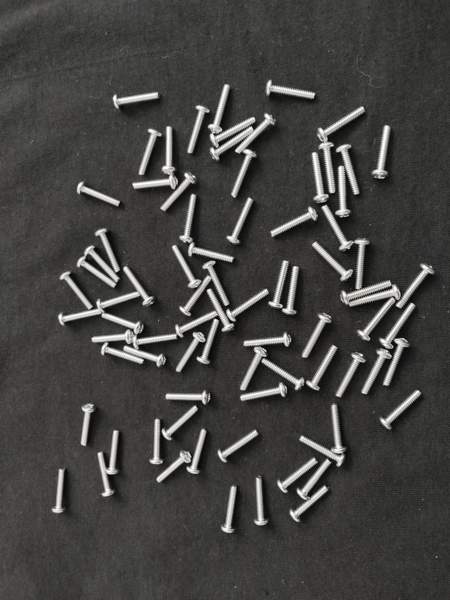longscrew: (378, 387, 426, 433), (317, 106, 369, 143), (396, 262, 436, 310), (235, 112, 278, 156), (379, 302, 419, 349), (311, 240, 354, 283), (356, 297, 397, 342), (289, 484, 334, 524), (333, 351, 368, 400), (307, 343, 341, 393), (361, 346, 395, 396), (299, 433, 347, 468), (209, 115, 258, 149), (381, 337, 413, 389), (226, 287, 272, 323), (159, 172, 199, 213), (277, 457, 320, 495), (296, 458, 334, 501), (208, 126, 256, 160), (269, 206, 320, 238), (217, 427, 262, 463), (322, 203, 355, 252), (122, 263, 157, 309), (301, 313, 335, 360), (260, 356, 306, 390), (178, 273, 214, 316), (201, 259, 233, 307), (238, 345, 270, 393), (59, 268, 94, 311), (174, 331, 207, 376), (336, 143, 364, 196), (84, 244, 121, 284), (161, 405, 201, 442), (231, 149, 260, 200), (170, 243, 202, 289), (340, 278, 394, 305), (227, 196, 256, 246), (76, 255, 118, 289), (205, 287, 235, 333), (94, 227, 124, 273), (75, 180, 122, 209), (175, 310, 222, 339), (186, 104, 212, 156), (371, 123, 394, 181), (99, 308, 145, 337), (156, 449, 194, 484), (207, 82, 233, 133), (263, 78, 318, 102), (137, 127, 163, 177), (195, 316, 221, 366), (111, 89, 164, 112), (268, 259, 292, 309), (350, 285, 403, 307), (121, 343, 167, 368), (352, 235, 372, 292), (186, 427, 209, 476), (100, 342, 145, 367), (238, 381, 289, 403), (309, 151, 330, 204), (318, 140, 338, 195), (282, 263, 302, 318), (329, 402, 349, 457), (186, 241, 235, 263), (96, 289, 142, 312), (96, 451, 118, 499), (335, 164, 354, 219), (179, 193, 199, 245), (50, 465, 70, 516), (220, 484, 240, 534), (160, 123, 178, 178), (241, 332, 295, 350), (77, 402, 97, 450), (253, 475, 270, 528), (57, 307, 104, 326), (130, 331, 179, 349), (132, 173, 180, 191), (165, 389, 214, 406), (105, 427, 122, 475), (91, 329, 136, 347), (148, 417, 164, 467)
